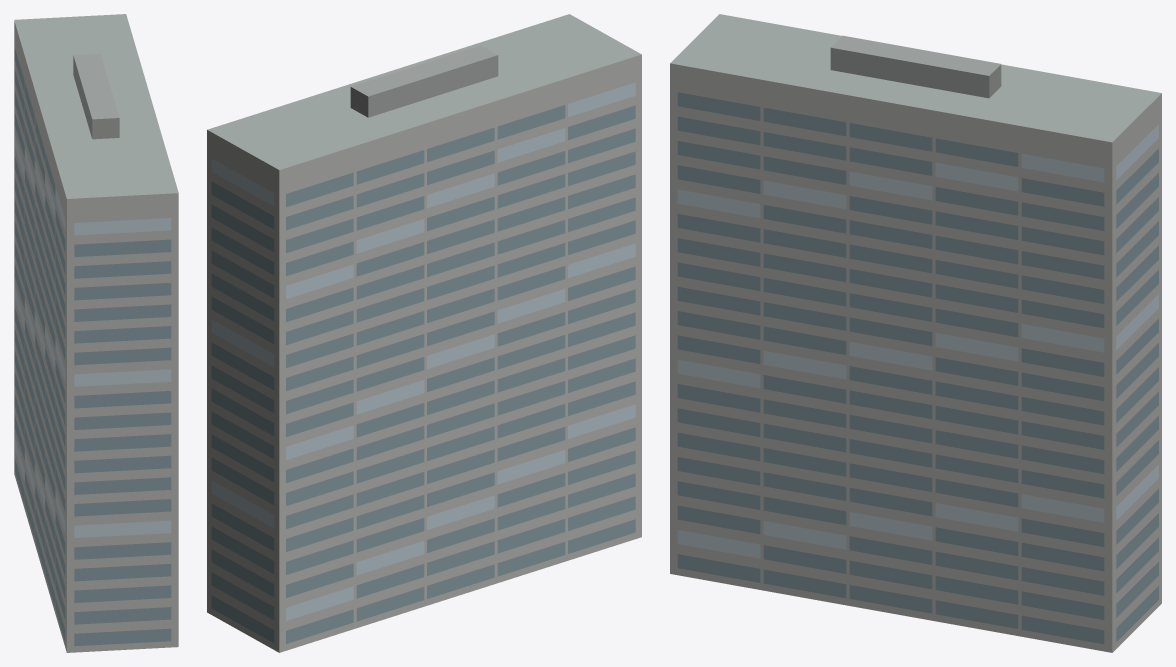
Rendered from fallback-jamsil-els-129.glb.
3 views of the same model, side by side, from view 1: azimuth 30°, elevation 25°; view 2: azimuth 150°, elevation 25°; view 3: azimuth 270°, elevation 25° (orthographic). The views are drawn at different scales.
Visible parts, largest first — view 1: fallback-jamsil-els-129; view 2: fallback-jamsil-els-129; view 3: fallback-jamsil-els-129.
Boxes of the visible parts, <box> form: fallback-jamsil-els-129: <box>14,14,178,652</box>; fallback-jamsil-els-129: <box>207,14,641,652</box>; fallback-jamsil-els-129: <box>670,14,1161,652</box>.
Bounding box in the file's own units: 29.47 × 57 × 47.68.
